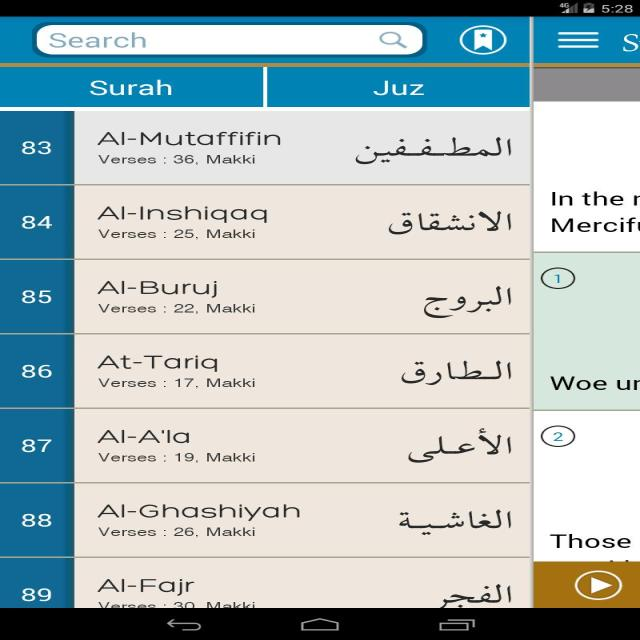button: (456, 23, 508, 58), (574, 569, 622, 601), (368, 25, 416, 55), (552, 29, 605, 53)
field: (36, 22, 424, 58)
text: (93, 501, 308, 541), (93, 201, 281, 244), (91, 424, 275, 466), (88, 570, 275, 610), (96, 128, 287, 167), (97, 275, 267, 317), (91, 353, 265, 393), (549, 191, 640, 234), (85, 76, 182, 99), (549, 372, 640, 396), (549, 531, 640, 550), (13, 508, 59, 533), (373, 79, 431, 98), (18, 209, 58, 236), (16, 359, 57, 384), (18, 136, 58, 161), (19, 580, 56, 607), (22, 435, 57, 462), (21, 287, 57, 309)
